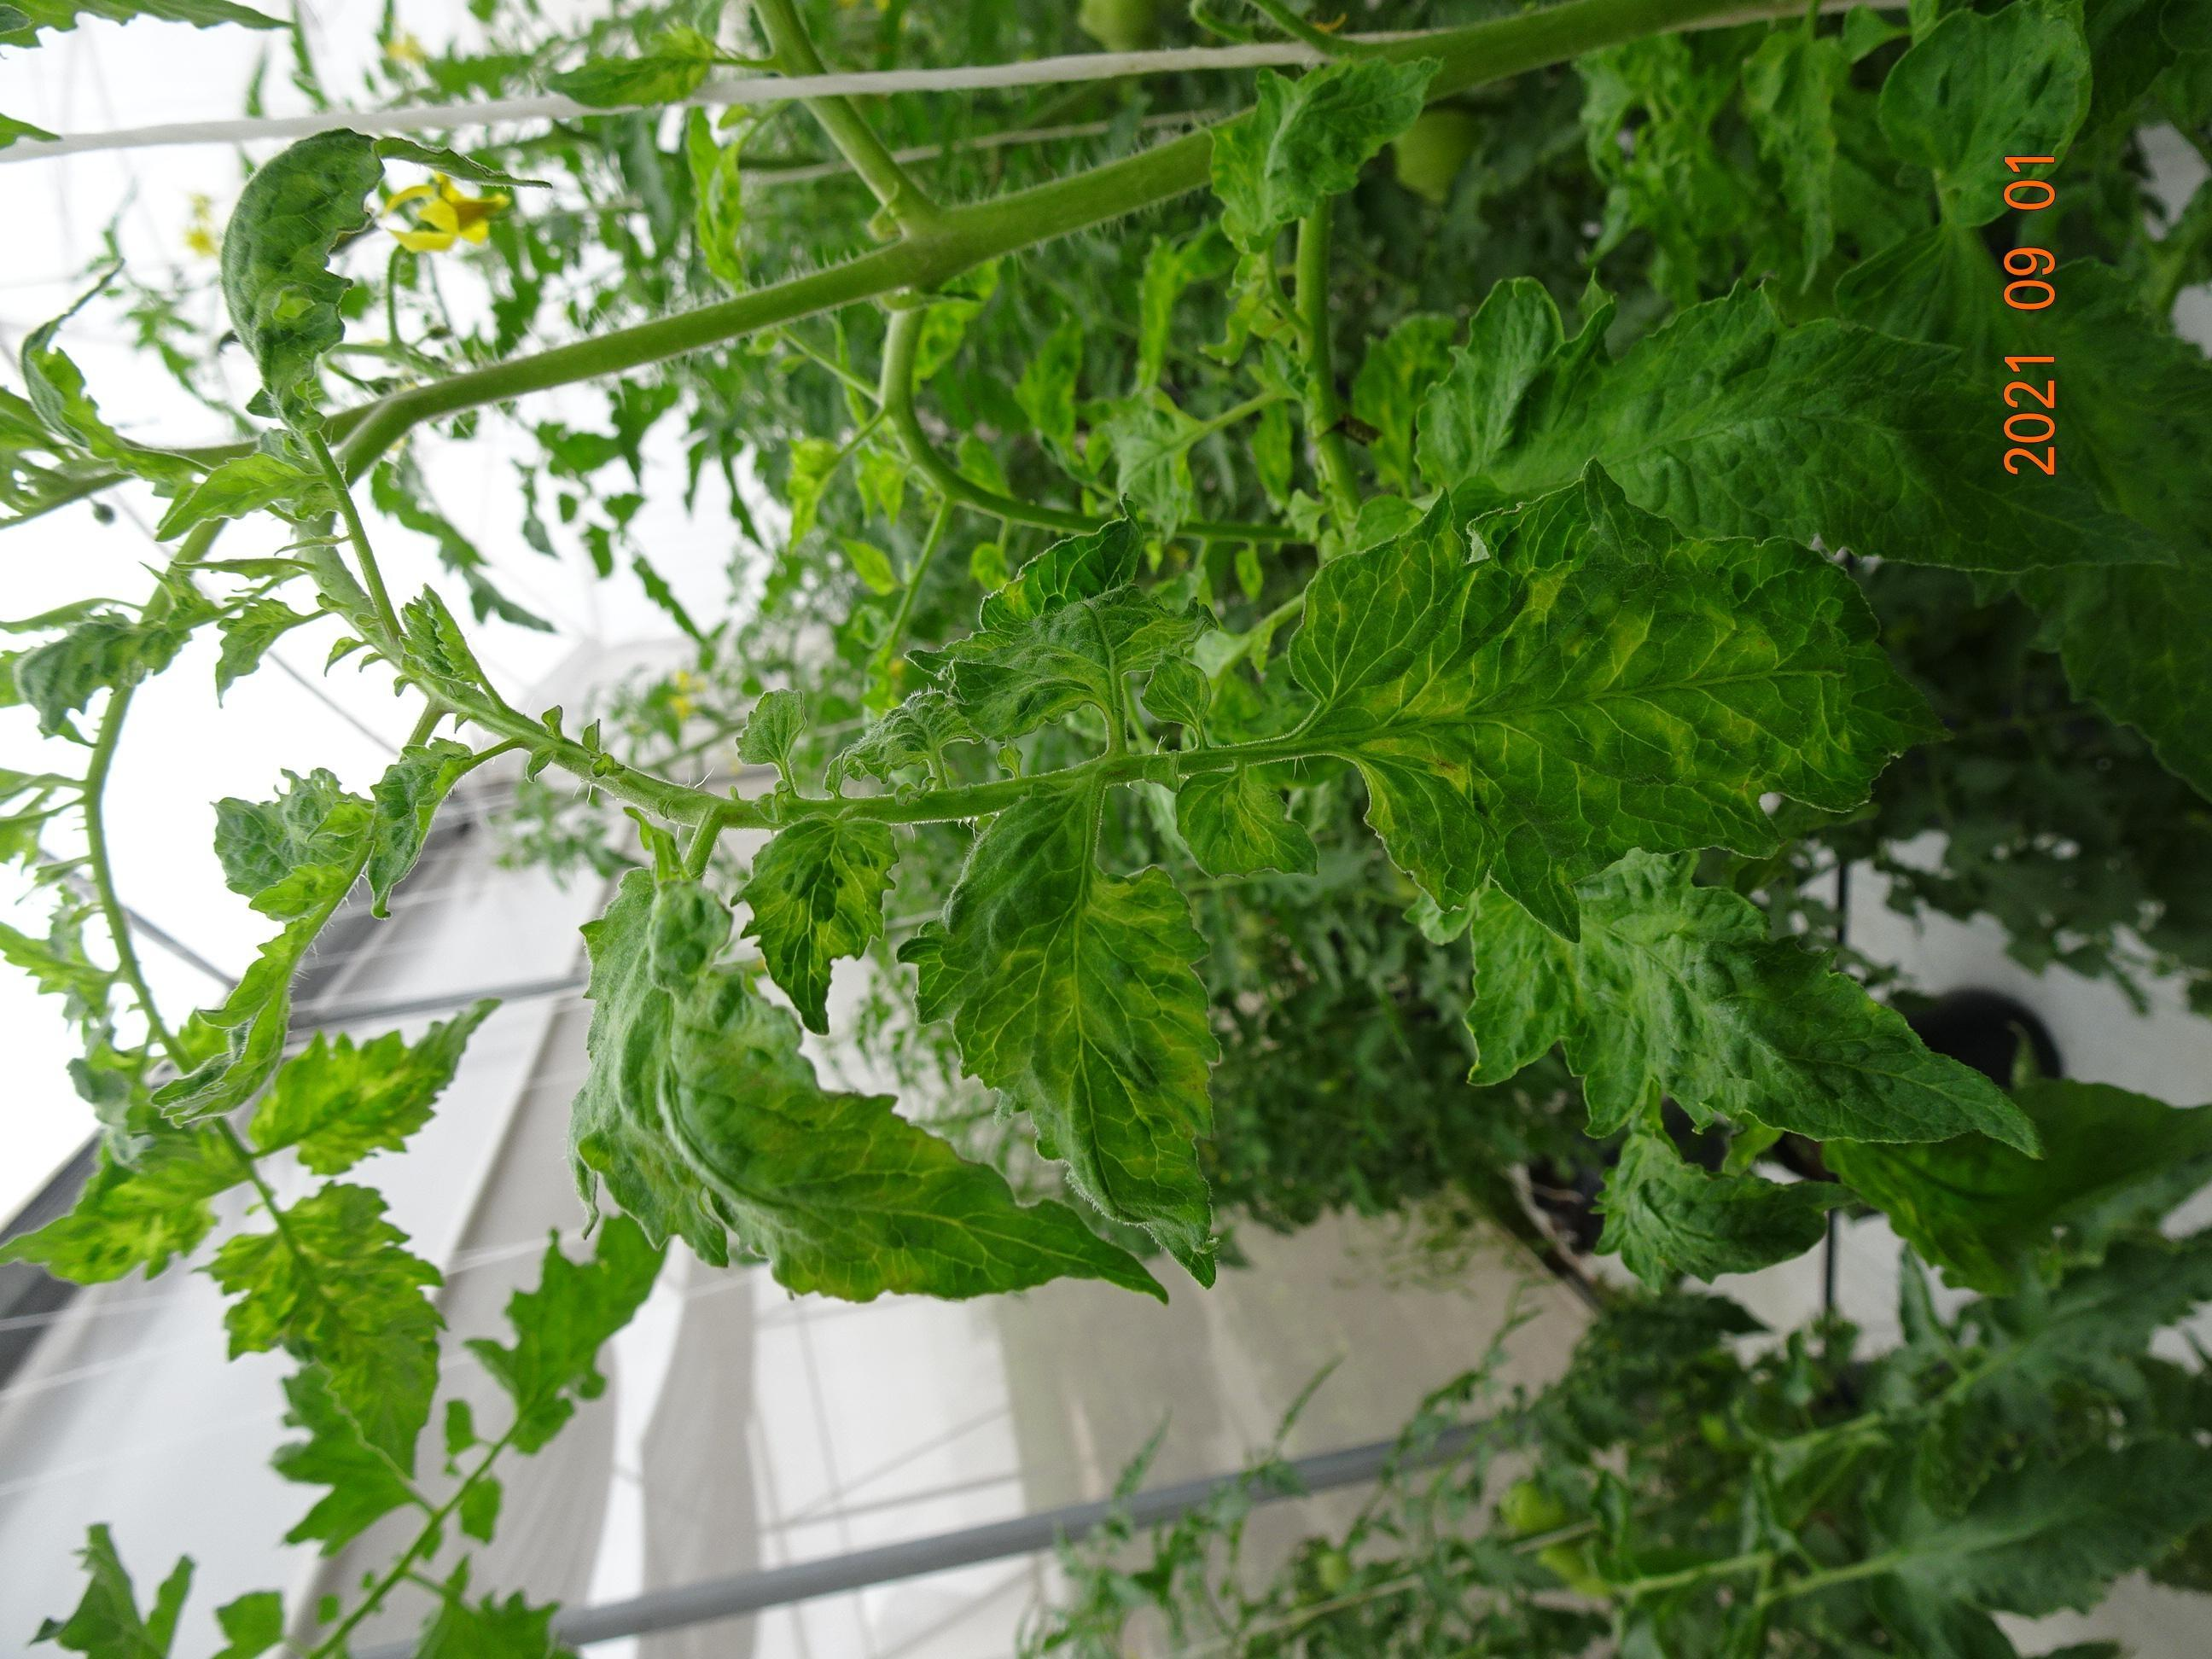Rugose leaf: (1284, 462, 1932, 938), (570, 859, 1158, 1300), (1468, 850, 2031, 1148), (902, 777, 1217, 1279)
